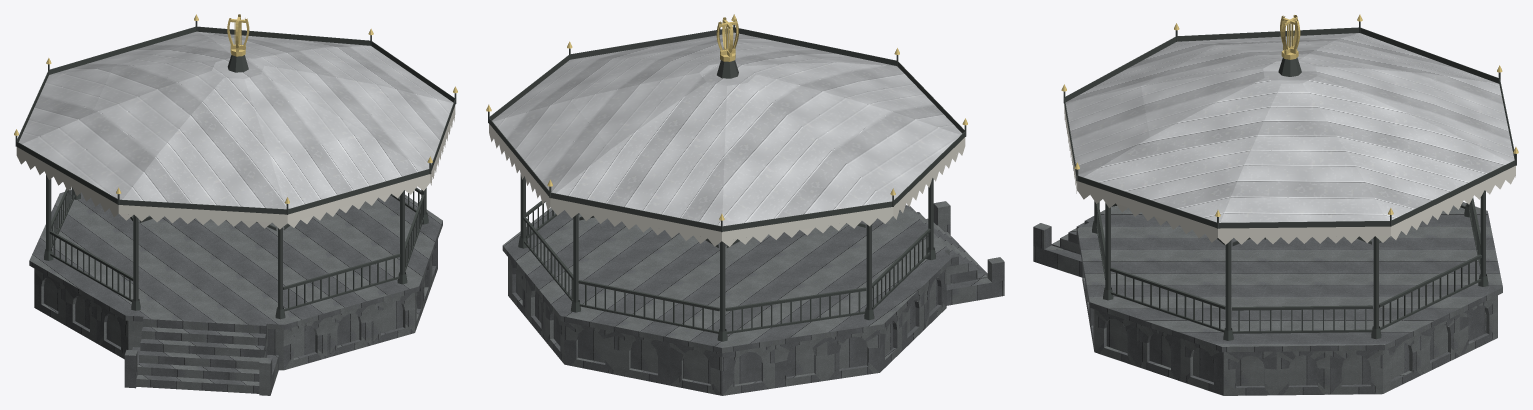
3 views of the same model, side by side, from view 1: azimuth 30°, elevation 25°; view 2: azimuth 150°, elevation 25°; view 3: azimuth 270°, elevation 25° (orthographic). The views are drawn at different scales.
Parts seen in each view (by area): view 1: bldg_117235287_landmark; view 2: bldg_117235287_landmark; view 3: bldg_117235287_landmark.
Part boxes in pixels (x1,y1,x2,y2): bldg_117235287_landmark: [14, 14, 457, 395]; bldg_117235287_landmark: [486, 14, 1004, 395]; bldg_117235287_landmark: [1033, 14, 1518, 395].
Bounding box in the file's own units: 13.45 × 9.16 × 13.93.
Materials: 5 (2 with a texture image).
